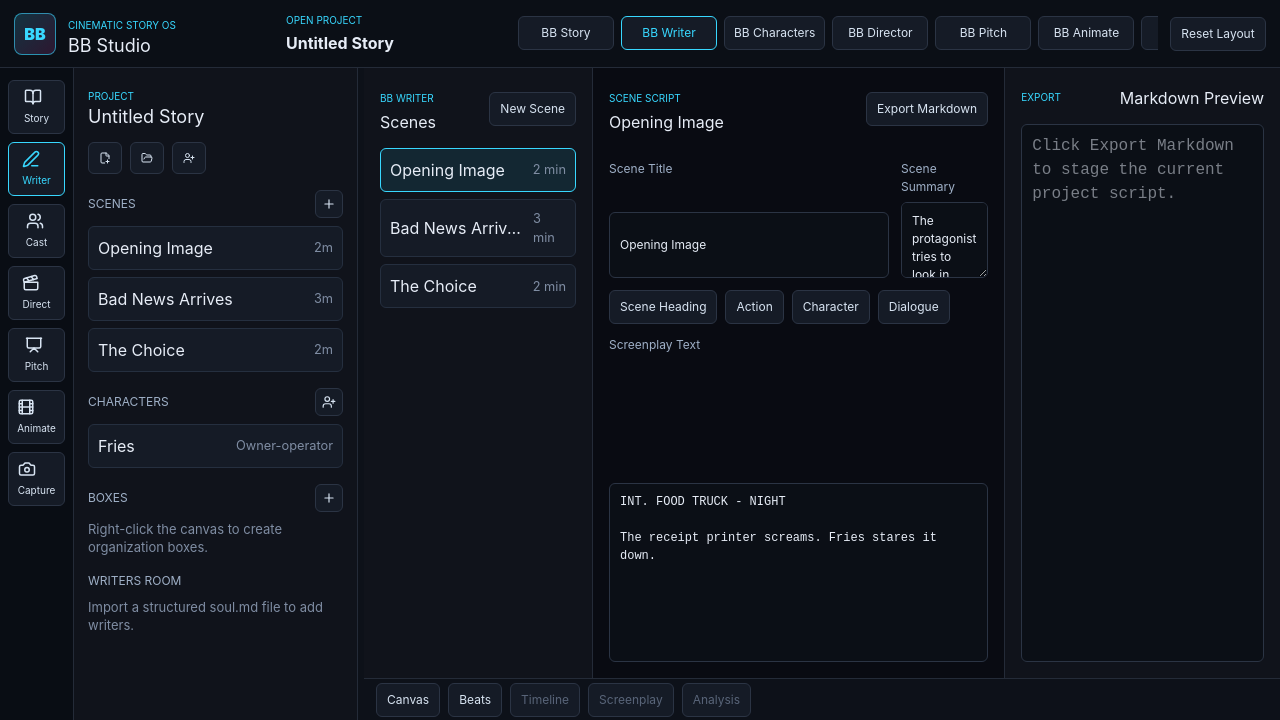
Test case: App › opens BB Characters as a character bible workspace
This screenshot has width=1280, height=720.
Click the button "BB Characters".
click(775, 32)  # box [724,16,826,50]
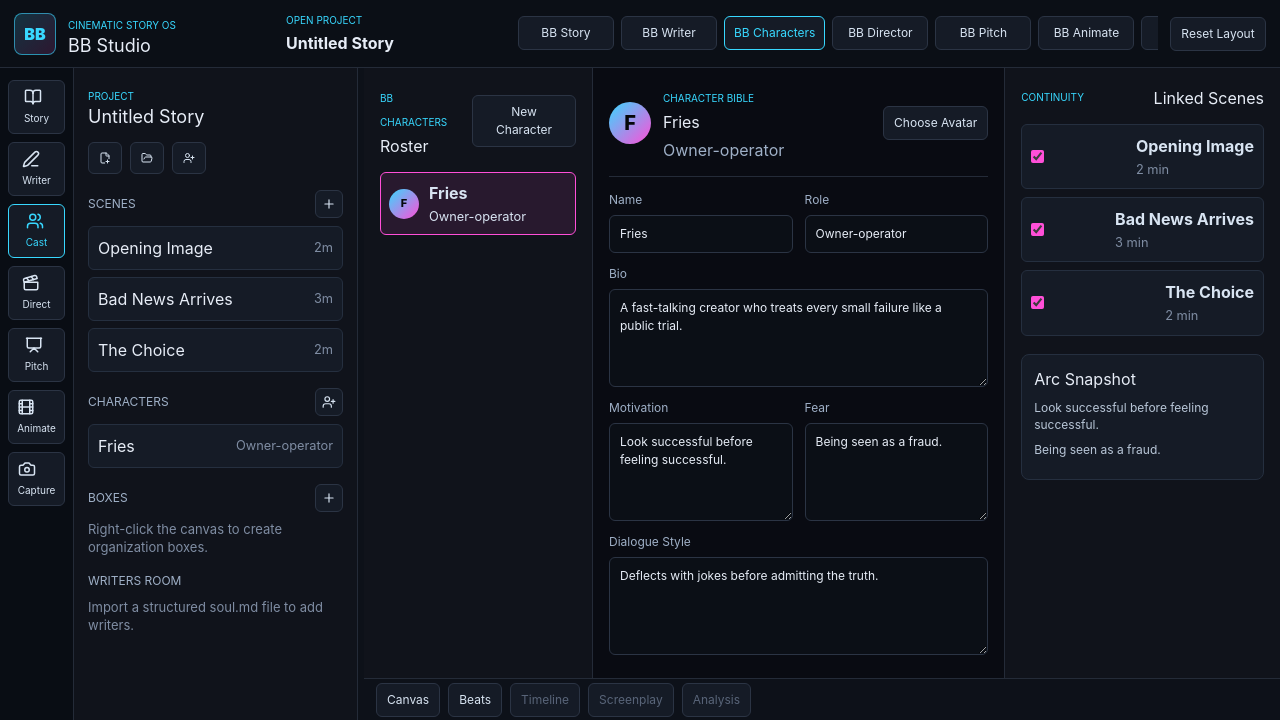
Expected: the text "Character Bible" is shown, [663,92,754,104]
Expected: the field showing "Fries" is shown, [609,215,793,253]
Expected: the field showing "Owner-operator" is shown, [805,215,988,253]
